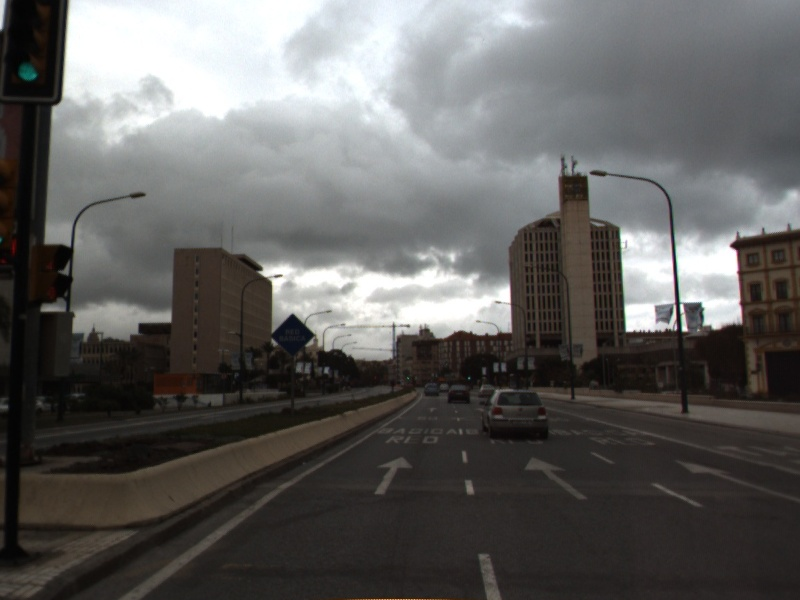STRAIGHT: (672, 458, 800, 504), (521, 454, 590, 503), (371, 454, 416, 497)
